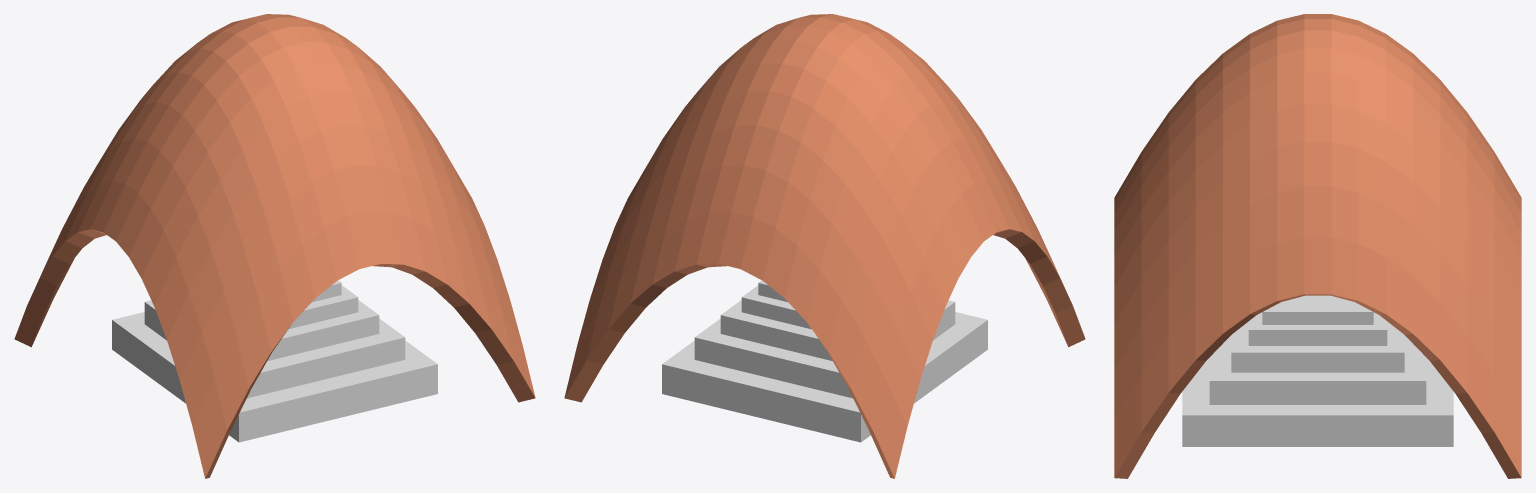
Rendered from dclgallery.glb.
3 views of the same model, side by side, from view 1: azimuth 30°, elevation 25°; view 2: azimuth 150°, elevation 25°; view 3: azimuth 270°, elevation 25° (orthographic). The views are drawn at different scales.
Visible parts, largest first — view 1: Z Function, Cube, Cube.001, Cube.002, Cube.003; view 2: Z Function, Cube, Cube.001, Cube.002, Cube.003; view 3: Z Function, Cube, Cube.001, Cube.002, Cube.003, Cube.004.
Part boxes in pixels (box(x1,y1,x2,y2)): Z Function: box(14, 14, 535, 478); Cube: box(112, 312, 437, 442); Cube.001: box(144, 300, 405, 398); Cube.002: box(267, 300, 379, 360); Cube.003: box(288, 285, 358, 329); Z Function: box(564, 14, 1085, 478); Cube: box(662, 312, 987, 442); Cube.001: box(694, 300, 955, 398); Cube.002: box(720, 300, 832, 360); Cube.003: box(741, 285, 811, 329); Z Function: box(1114, 14, 1521, 478); Cube: box(1182, 358, 1453, 446); Cube.001: box(1209, 335, 1426, 404); Cube.002: box(1231, 321, 1404, 372); Cube.003: box(1248, 312, 1387, 345); Cube.004: box(1262, 295, 1373, 324).
Bounding box in the file's own units: 3.01 × 3.04 × 3.01.
1 material, 1 textured.
